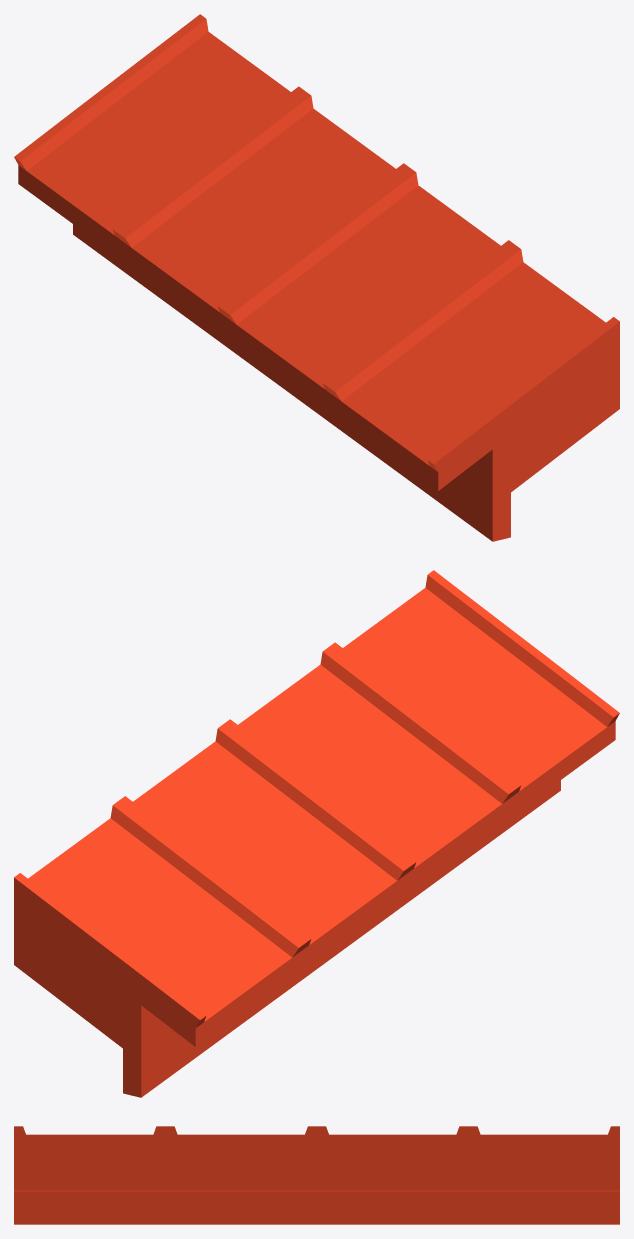
File: roof-metal-moderate-2m-edge.fbx
3 renders of one model, top to bottom at view 1: azimuth 30°, elevation 25°; view 2: azimuth 150°, elevation 25°; view 3: azimuth 270°, elevation 25°, orthographic. The views are drawn at different scales.
Parts seen in each view (by area): view 1: roof-metal-moderate-2m-edge; view 2: roof-metal-moderate-2m-edge; view 3: roof-metal-moderate-2m-edge.
Boxes of the visible parts, x1,y1,x2,y2 form: roof-metal-moderate-2m-edge: [14, 14, 619, 541]; roof-metal-moderate-2m-edge: [14, 570, 619, 1097]; roof-metal-moderate-2m-edge: [14, 1126, 619, 1224].
Bounding box in the file's own units: 0.512 × 0.4978 × 2.
